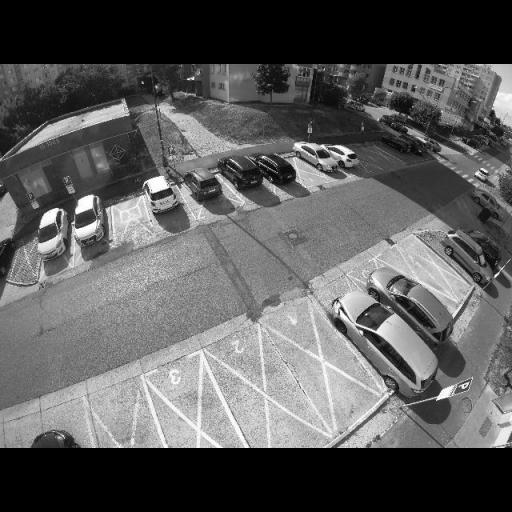busy: (330, 289, 434, 389), (381, 272, 449, 342), (439, 228, 491, 284), (66, 192, 108, 248), (30, 205, 72, 259), (140, 172, 180, 216), (219, 156, 263, 190), (21, 425, 85, 447), (254, 152, 296, 182), (298, 143, 340, 172), (184, 166, 222, 198), (330, 145, 363, 170), (381, 135, 416, 153), (406, 138, 429, 155)
free: (228, 372, 281, 422), (96, 408, 155, 448), (294, 340, 340, 386), (166, 413, 220, 448), (112, 207, 144, 241), (288, 156, 317, 184), (418, 254, 450, 277), (370, 147, 388, 160)
